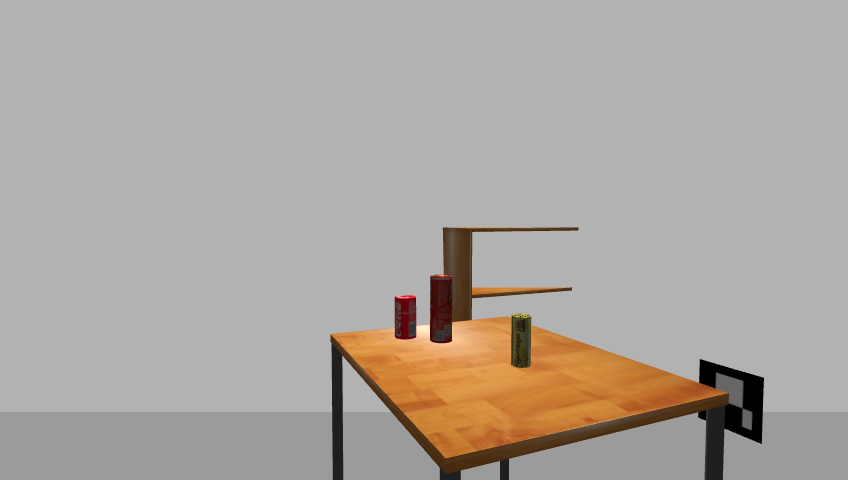aruco marker: (693, 358, 770, 445)
biscuits pack: (509, 314, 534, 370)
bookshelf: (437, 224, 584, 402)
coke can: (392, 295, 418, 342)
dinner table: (323, 317, 733, 480)
pringles can: (428, 274, 454, 346)
